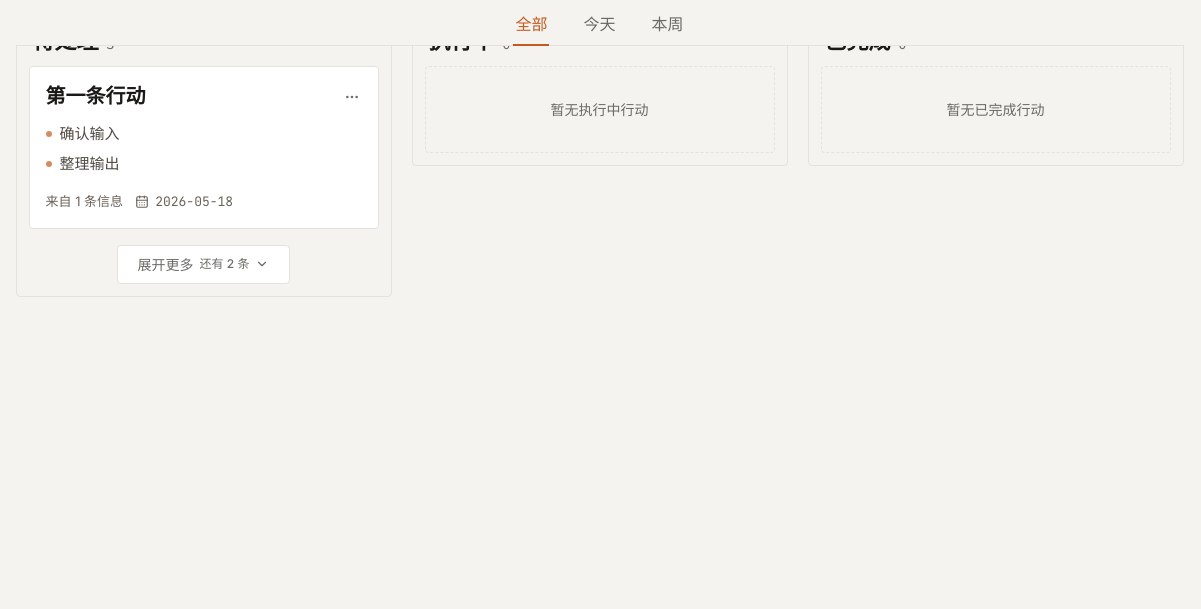
ActionsView v19 visual constraints › loads one status lane page and reveals the appended card without a collapse button
expect the heading "第一条行动" is shown: met, box 46,83 -> 146,110
expect the text "第二条行动" is not shown: met
Click the button "展开更多 还有 2 条": (204, 264) 117,245 -> 290,284
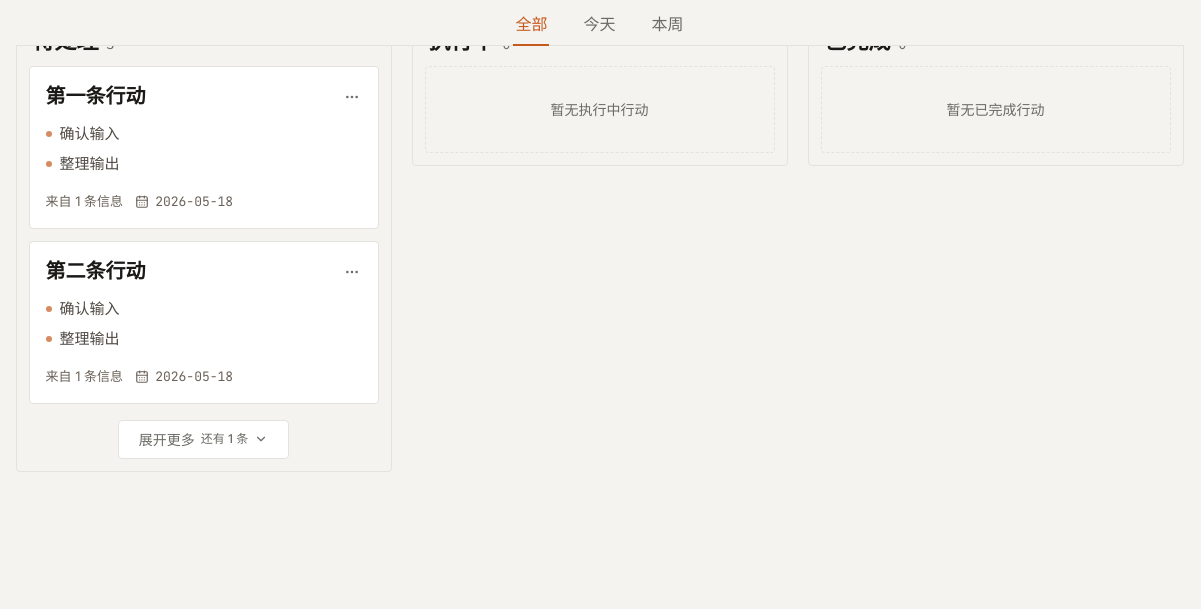
expect the heading "第二条行动" is shown: met, box 46,258 -> 146,285
expect the button "展开更多 还有 1 条" is shown: met
Click the button "展开更多 还有 1 条": (204, 439) 118,420 -> 289,459
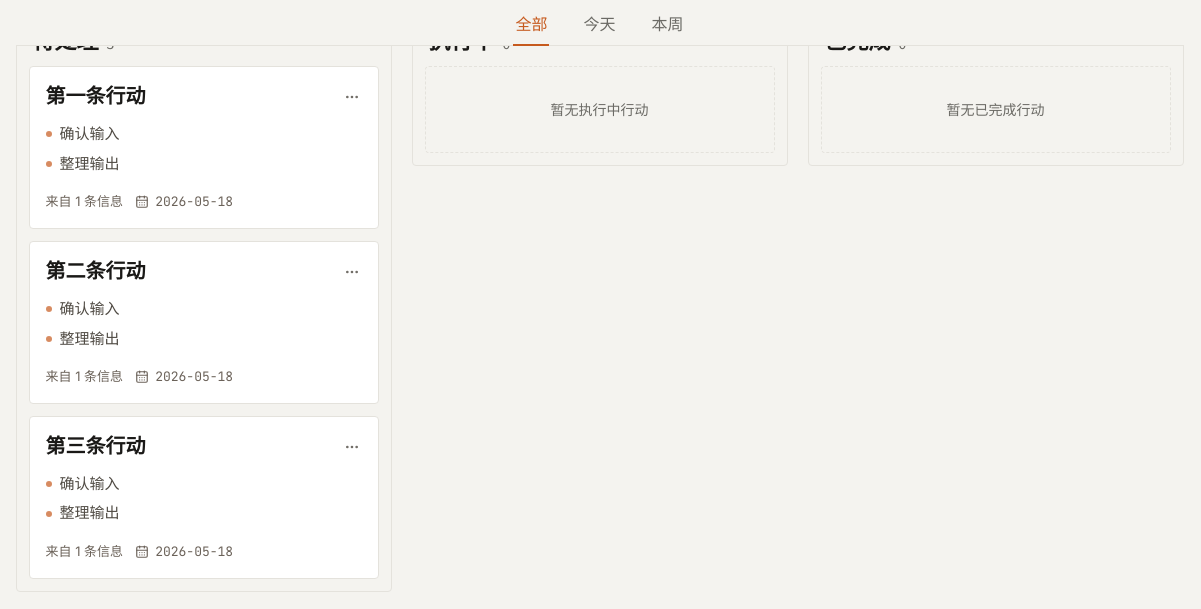
expect the heading "第三条行动" is shown: met, box 46,433 -> 146,460
expect the button "展开更多" is gone: met
